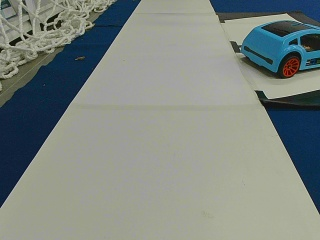car: (239, 19, 318, 77)
